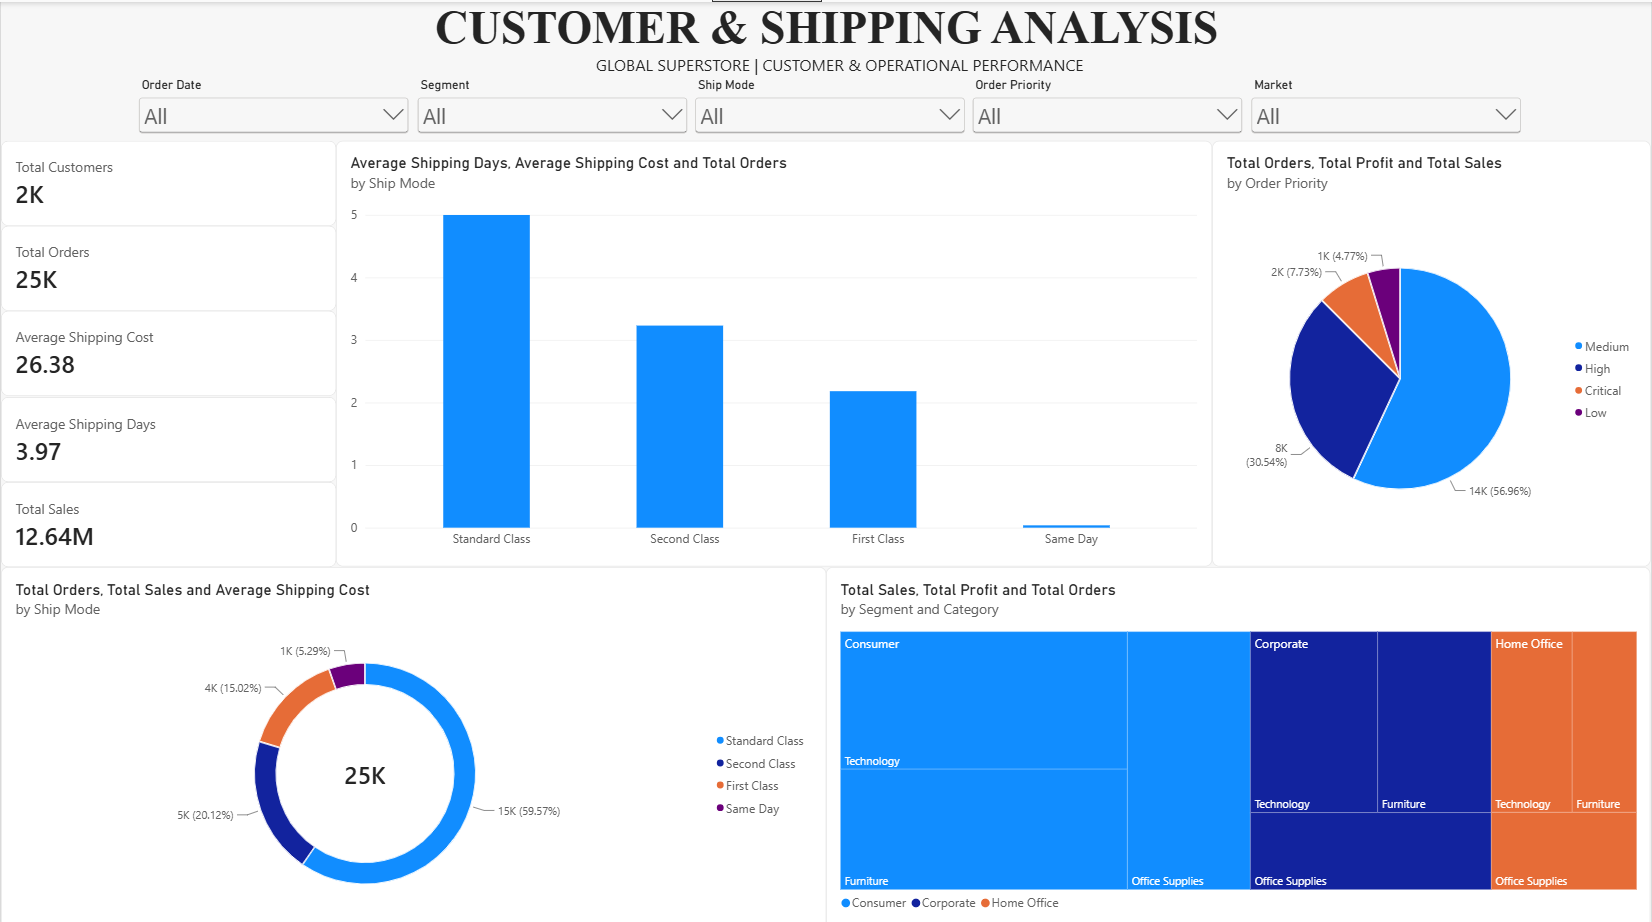

What the dashboard file says about the page in this screenshot:
{"tool":"powerbi","page":{"name":"CUSTOMER & SHIPPING  ","canvas":[1920,1080],"ordinal":3},"visuals":[{"type":"textbox","box":[0,0,1920.4,86.4],"z":0},{"type":"slicer","fields":{"Values":["Global_Superstore2.Order Date"]},"box":[155.7,86.9,323.4,149.6],"z":1000},{"type":"slicer","fields":{"Values":["Global_Superstore2.Segment"]},"box":[479.1,86.9,323.4,149.6],"z":2000},{"type":"slicer","fields":{"Values":["Global_Superstore2.Ship Mode"]},"box":[802.5,86.9,323.4,149.6],"z":3000},{"type":"slicer","fields":{"Values":["Global_Superstore2.Order Priority"]},"box":[1126,86.9,323.4,149.6],"z":4000},{"type":"slicer","fields":{"Values":["Global_Superstore2.Market"]},"box":[1449.4,86.9,323.4,149.6],"z":5000},{"type":"cardVisual","fields":{"Data":["Global_Superstore2.Total Customers"]},"box":[0,161.7,390.1,99.1],"z":6000},{"type":"cardVisual","fields":{"Data":["Global_Superstore2.Total Orders"]},"box":[0,260.8,390.1,99.1],"z":7000},{"type":"cardVisual","fields":{"Data":["Global_Superstore2.Average Shipping Cost"]},"box":[0,359.8,390.1,99.1],"z":8000},{"type":"cardVisual","fields":{"Data":["Global_Superstore2.Average Shipping Days"]},"box":[0,458.9,390.1,99.1],"z":9000},{"type":"cardVisual","fields":{"Data":["Global_Superstore2.Total Sales"]},"box":[0,557.9,390.1,99.1],"z":10000},{"type":"donutChart","fields":{"Category":["Global_Superstore2.Ship Mode"],"Y":["Global_Superstore2.Total Orders"]},"box":[0,657,960.2,422.5],"z":11000},{"type":"columnChart","fields":{"Category":["Global_Superstore2.Ship Mode"],"Y":["Global_Superstore2.Average Shipping Days"]},"box":[390.1,161.7,1018.8,495.3],"z":12000},{"type":"pieChart","fields":{"Category":["Global_Superstore2.Order Priority"],"Y":["Global_Superstore2.Total Orders"]},"box":[1409,161.7,511.4,495.3],"z":13000},{"type":"treemap","fields":{"Details":["Global_Superstore2.Category"],"Group":["Global_Superstore2.Segment"],"Values":["Global_Superstore2.Total Sales"]},"box":[960.2,657,960.2,422.5],"z":14000}]}

Visuals, with their boxes in screenshot pixels (x1, y1, x2, y2), scaled from the page's 1920x1080 canvas onto the 1652x922 screenshot:
textbox: locate(0, 0, 1651, 74)
slicer - Global_Superstore2.Order Date: locate(134, 74, 412, 202)
slicer - Global_Superstore2.Segment: locate(412, 74, 690, 202)
slicer - Global_Superstore2.Ship Mode: locate(690, 74, 969, 202)
slicer - Global_Superstore2.Order Priority: locate(969, 74, 1247, 202)
slicer - Global_Superstore2.Market: locate(1247, 74, 1525, 202)
cardVisual - Global_Superstore2.Total Customers: locate(0, 138, 336, 223)
cardVisual - Global_Superstore2.Total Orders: locate(0, 223, 336, 307)
cardVisual - Global_Superstore2.Average Shipping Cost: locate(0, 307, 336, 392)
cardVisual - Global_Superstore2.Average Shipping Days: locate(0, 392, 336, 476)
cardVisual - Global_Superstore2.Total Sales: locate(0, 476, 336, 561)
donutChart - Global_Superstore2.Ship Mode x Global_Superstore2.Total Orders: locate(0, 561, 826, 921)
columnChart - Global_Superstore2.Ship Mode x Global_Superstore2.Average Shipping Days: locate(336, 138, 1212, 561)
pieChart - Global_Superstore2.Order Priority x Global_Superstore2.Total Orders: locate(1212, 138, 1651, 561)
treemap - Global_Superstore2.Category x Global_Superstore2.Segment: locate(826, 561, 1651, 921)
